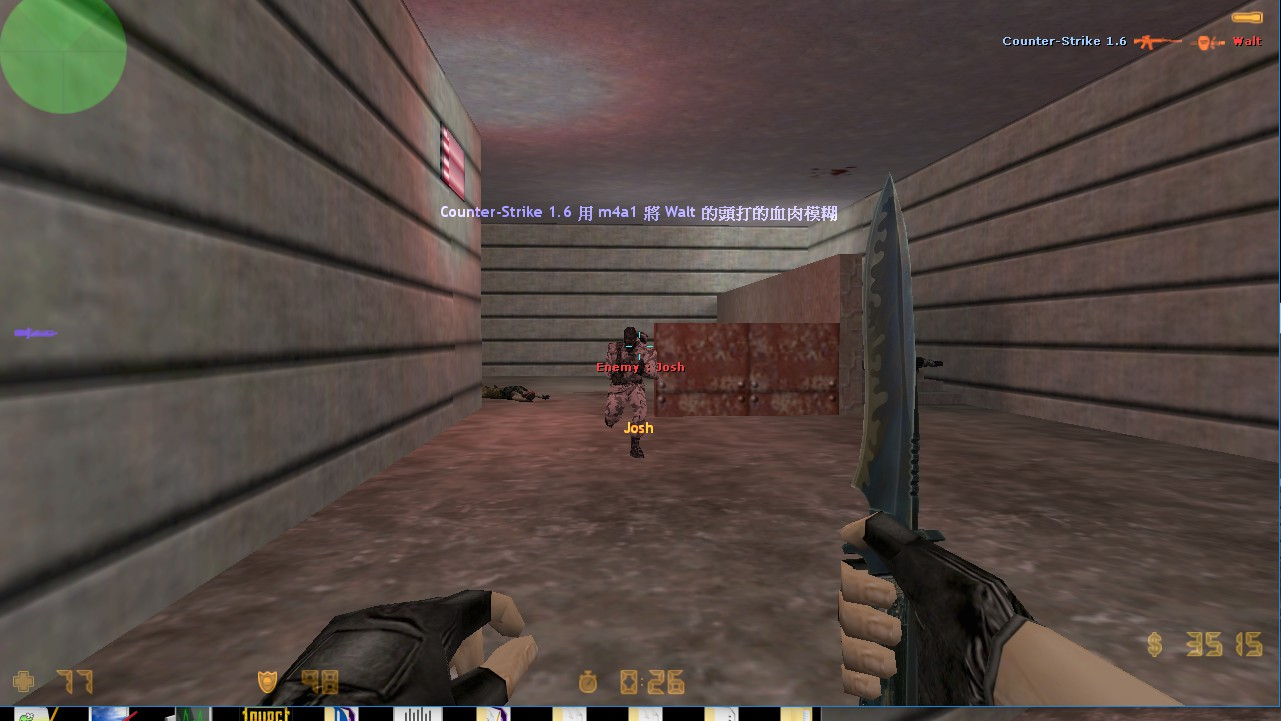person: (599, 326, 657, 463)
